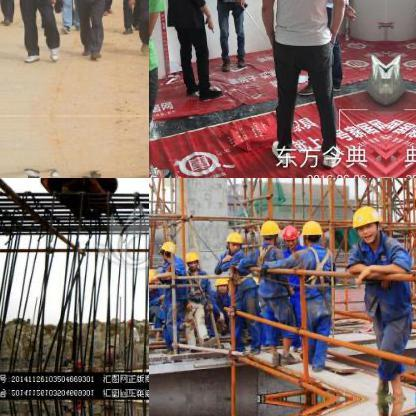Helmet: (348, 202, 382, 242), (300, 216, 322, 246), (259, 216, 279, 244), (280, 224, 298, 248), (223, 230, 242, 252), (158, 238, 176, 260), (212, 271, 230, 291), (184, 247, 198, 269)
